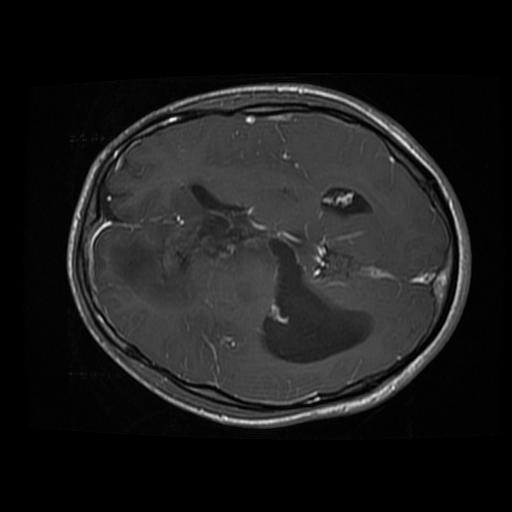glioma: (105, 185, 227, 313)
